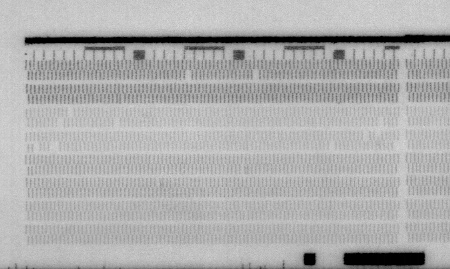Broken hole: (361, 129, 385, 142), (46, 140, 62, 154), (53, 117, 67, 130), (375, 116, 387, 131), (391, 141, 404, 153), (111, 117, 123, 130), (183, 69, 194, 82), (65, 107, 76, 119), (250, 69, 261, 81), (327, 140, 338, 152), (31, 141, 42, 152)
Oblique printing: (237, 163, 251, 176), (152, 176, 165, 190)
